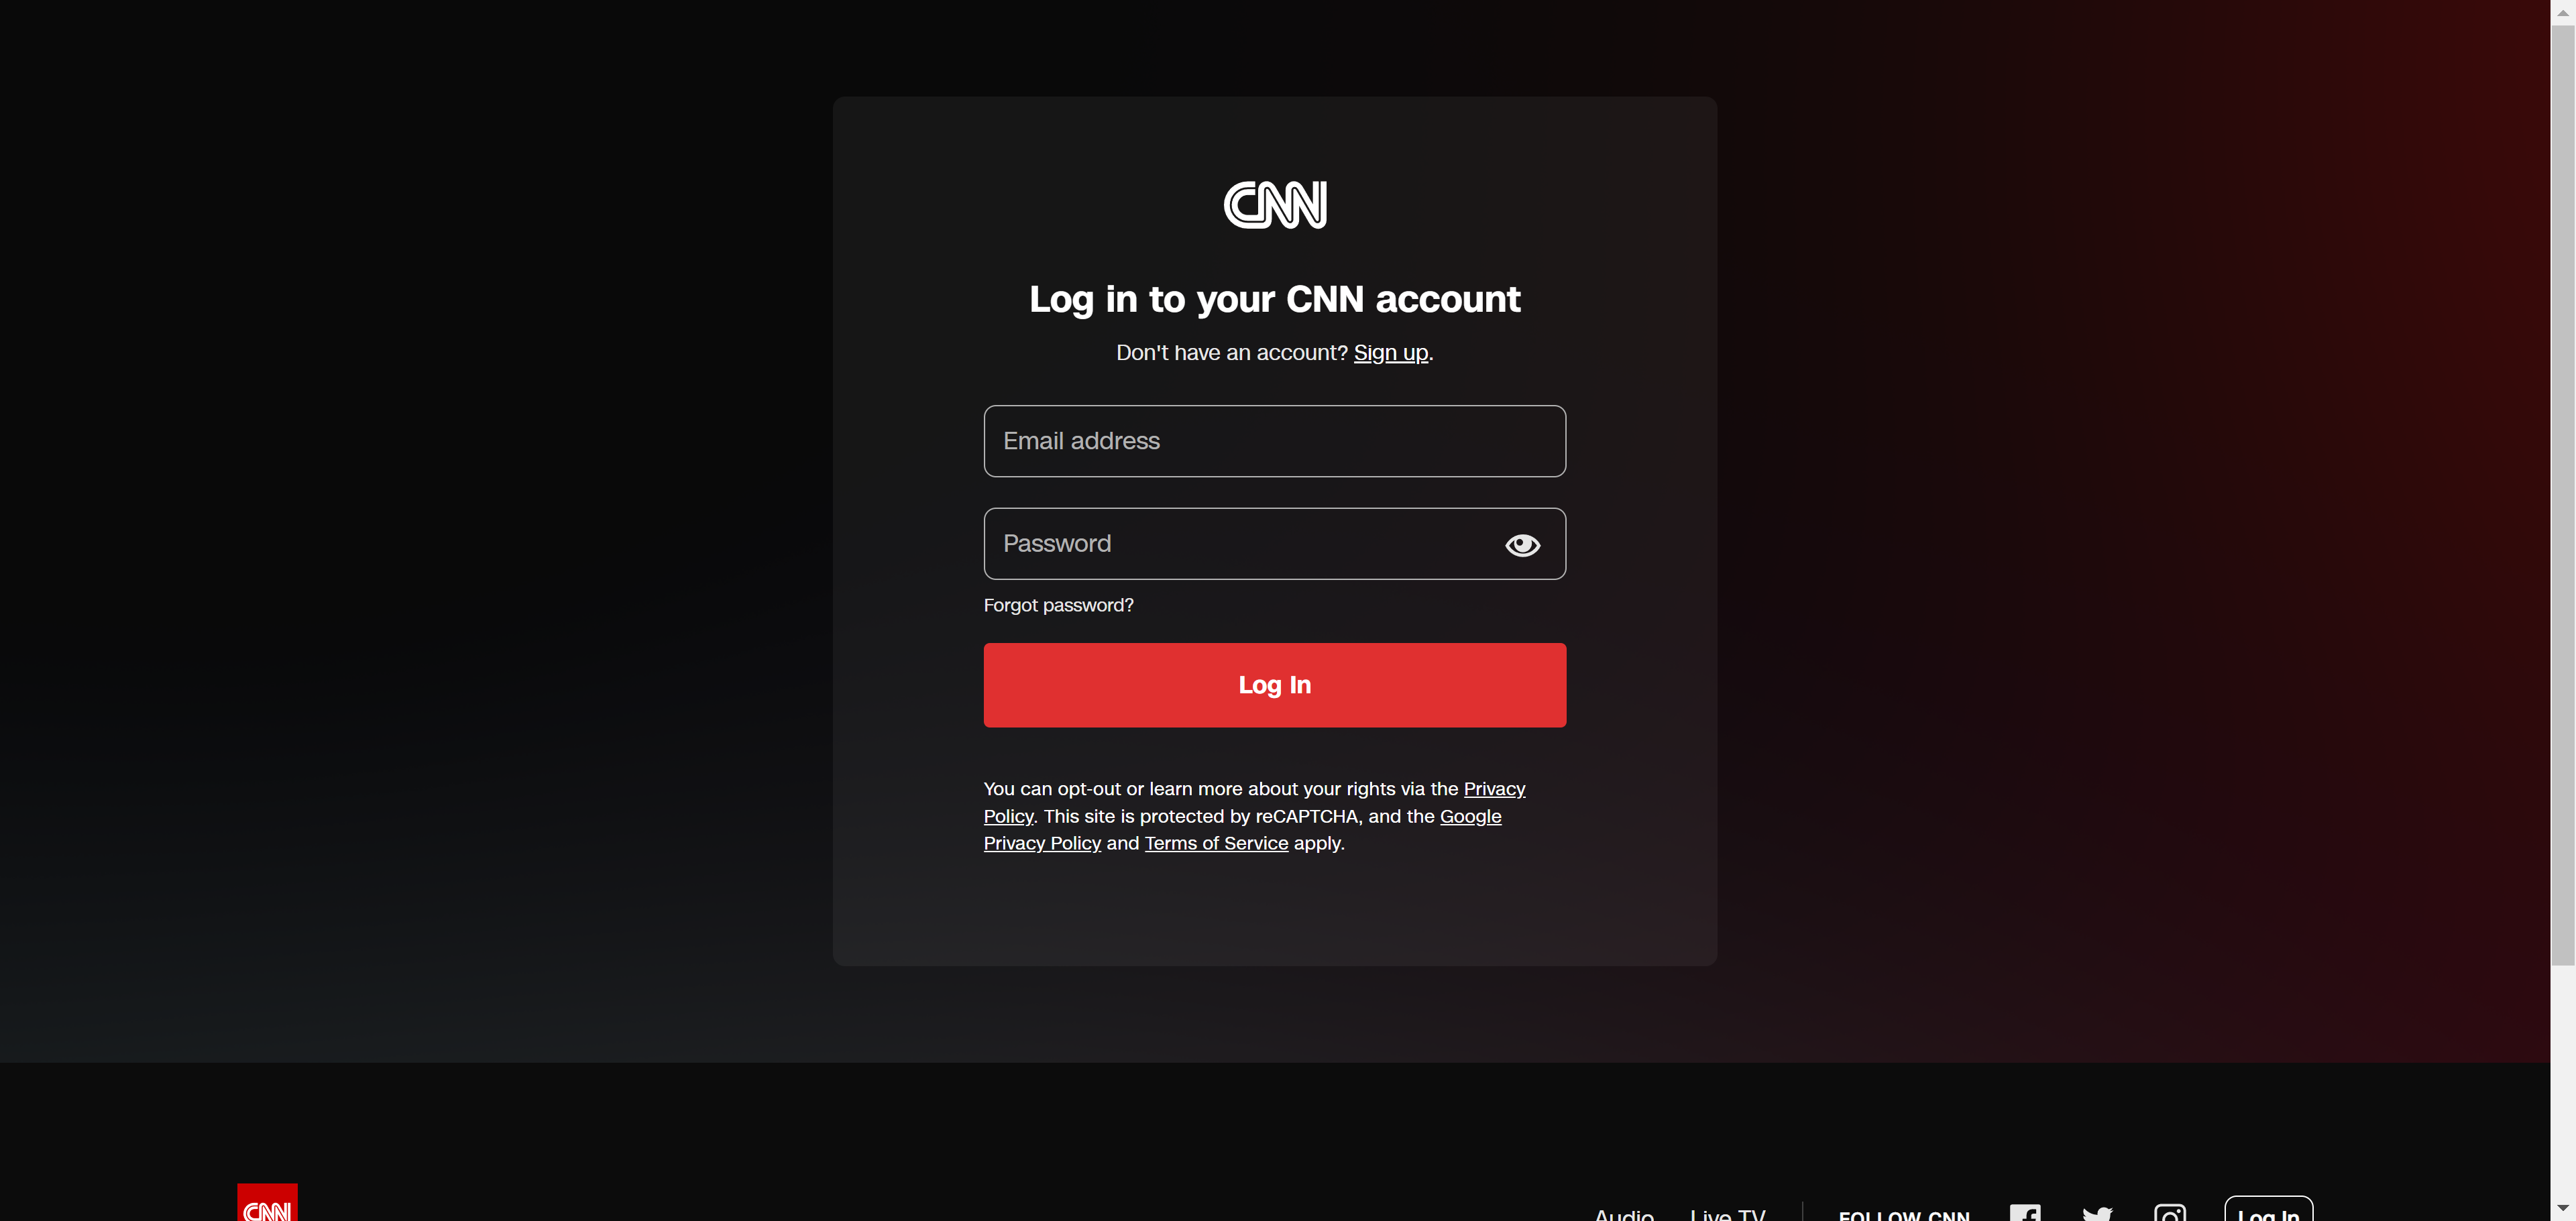login_button: (984, 643, 1567, 728)
login_form: (977, 396, 1574, 736)
